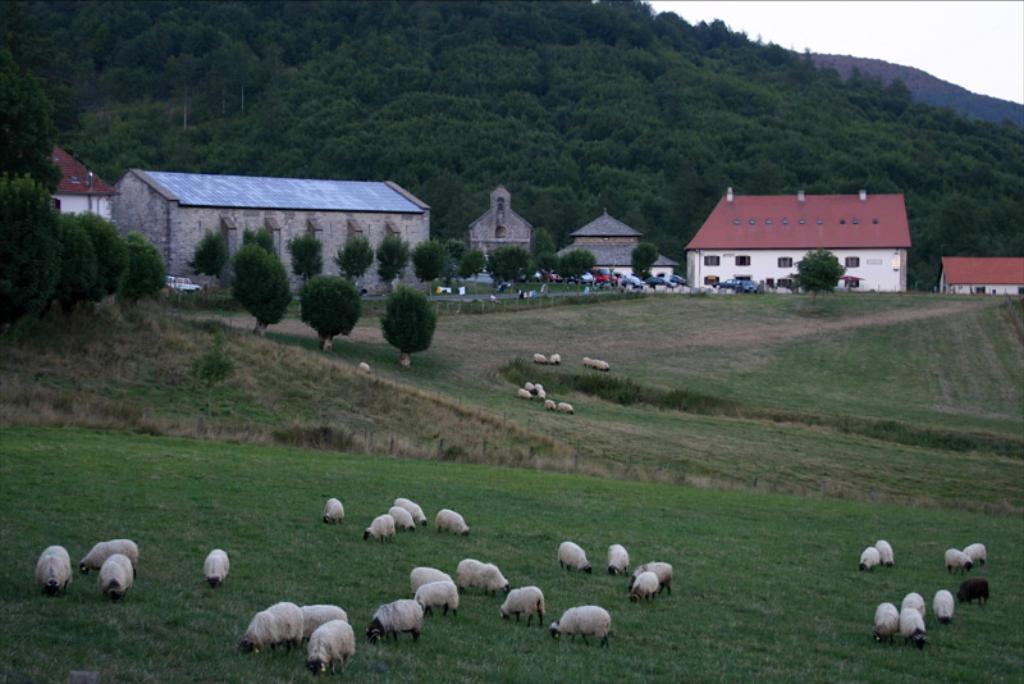sheep: (549, 604, 610, 650)
